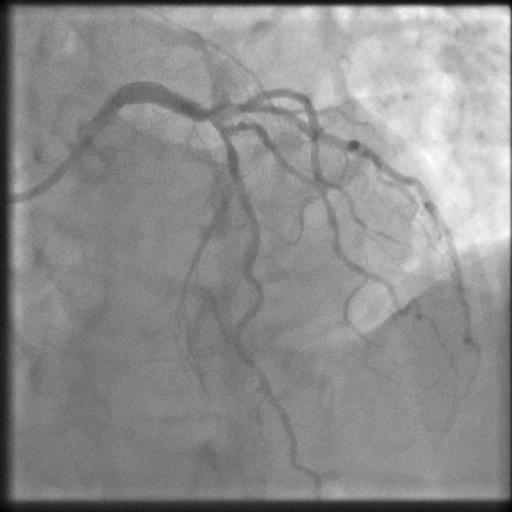Stenosis: (204, 111, 234, 146)
